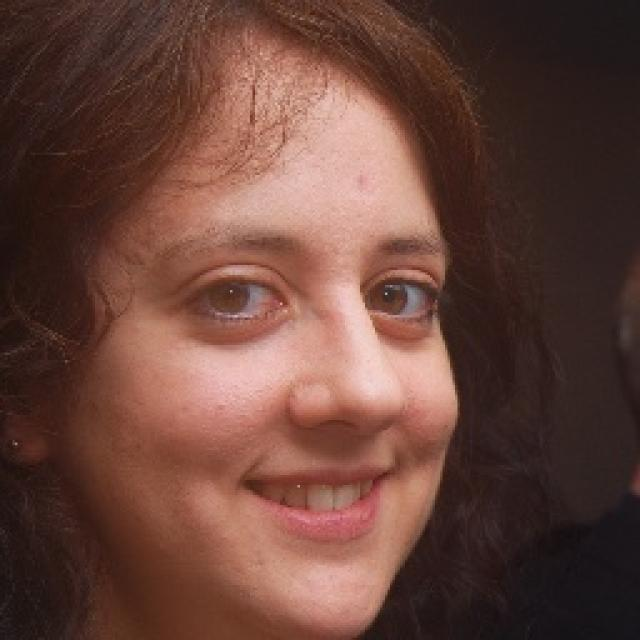earlobe: (3, 407, 53, 470)
eye: (182, 270, 290, 327), (367, 278, 438, 325)
nose: (293, 418, 400, 468)
wholeear: (0, 333, 55, 470)
